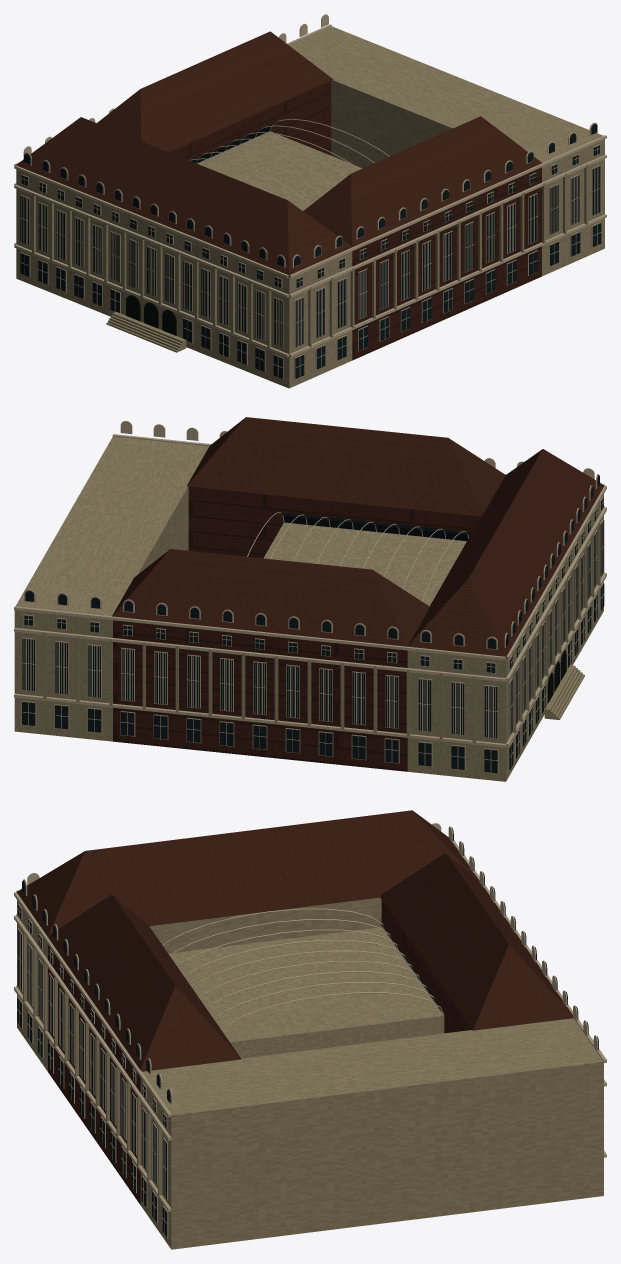
The picture shows the model from 3 angles, top to bottom: view 1: azimuth 30°, elevation 25°; view 2: azimuth 150°, elevation 25°; view 3: azimuth 270°, elevation 25°; orthographic projection. The views are drawn at different scales.
Parts seen in each view (by area): view 1: hoofdpostkantoor-0, hoofdpostkantoor-1, hoofdpostkantoor-4, hoofdpostkantoor-3, hoofdpostkantoor-2, hoofdpostkantoor-5; view 2: hoofdpostkantoor-1, hoofdpostkantoor-0, hoofdpostkantoor-2, hoofdpostkantoor-4, hoofdpostkantoor-3; view 3: hoofdpostkantoor-0, hoofdpostkantoor-1, hoofdpostkantoor-4, hoofdpostkantoor-3, hoofdpostkantoor-2.
Boxes of the visible parts, x1,y1,x2,y2 form: hoofdpostkantoor-0: [16, 26, 604, 388]; hoofdpostkantoor-1: [15, 31, 541, 277]; hoofdpostkantoor-4: [14, 14, 606, 379]; hoofdpostkantoor-3: [20, 27, 601, 379]; hoofdpostkantoor-2: [169, 81, 541, 360]; hoofdpostkantoor-5: [126, 295, 176, 335]; hoofdpostkantoor-1: [112, 417, 604, 658]; hoofdpostkantoor-0: [14, 436, 603, 781]; hoofdpostkantoor-2: [113, 486, 480, 771]; hoofdpostkantoor-4: [14, 421, 606, 773]; hoofdpostkantoor-3: [22, 475, 604, 773]; hoofdpostkantoor-0: [17, 897, 603, 1249]; hoofdpostkantoor-1: [16, 810, 573, 1071]; hoofdpostkantoor-4: [14, 823, 606, 1237]; hoofdpostkantoor-3: [17, 828, 598, 1236]; hoofdpostkantoor-2: [48, 900, 471, 1204].
Bounding box in the file's own units: 102 × 33 × 92.1.
Materials: 6 (6 with a texture image).
